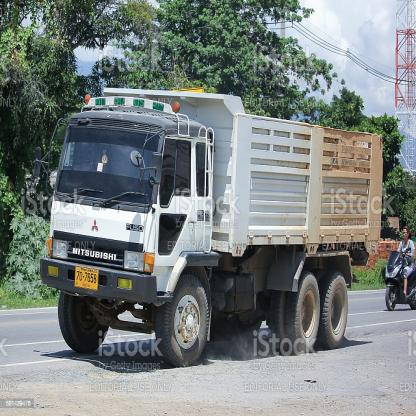truck: (41, 87, 385, 365)
